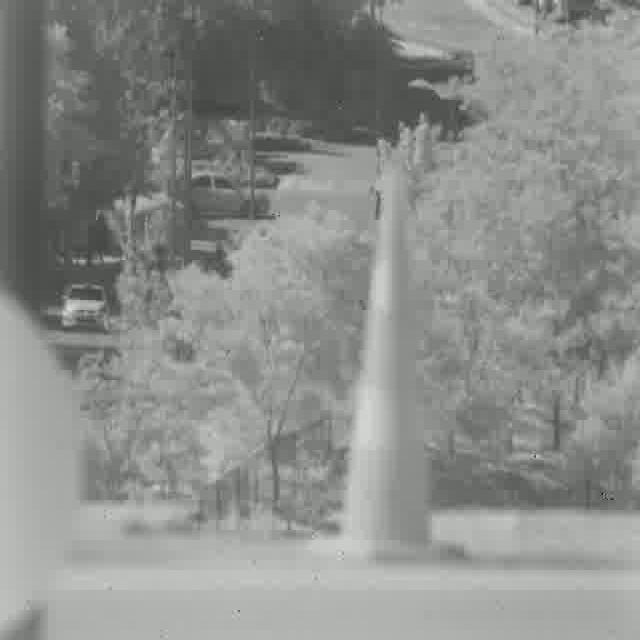Car: (61, 282, 110, 332)
